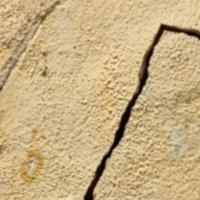crack: (65, 18, 199, 199)
